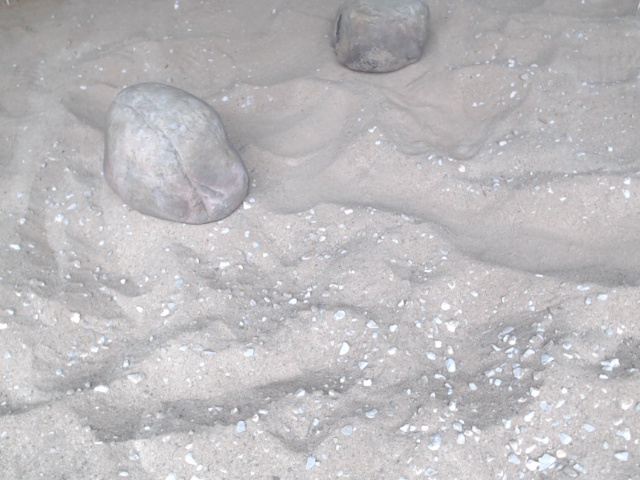rock: (98, 79, 253, 229), (325, 1, 436, 78)
